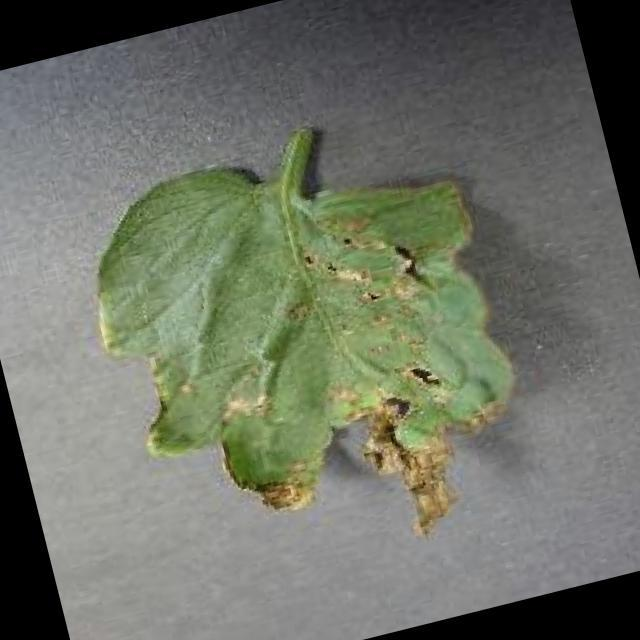Tomato bacterial spot leaf: (42, 73, 575, 619)
